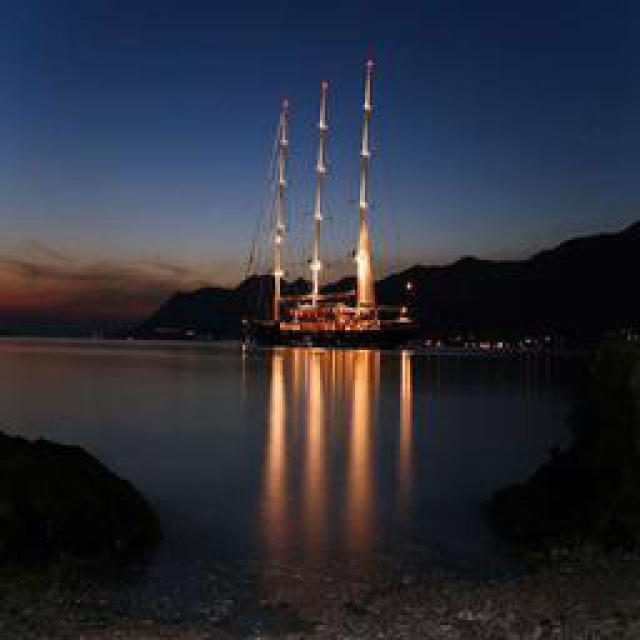Ship: (246, 48, 423, 357)
